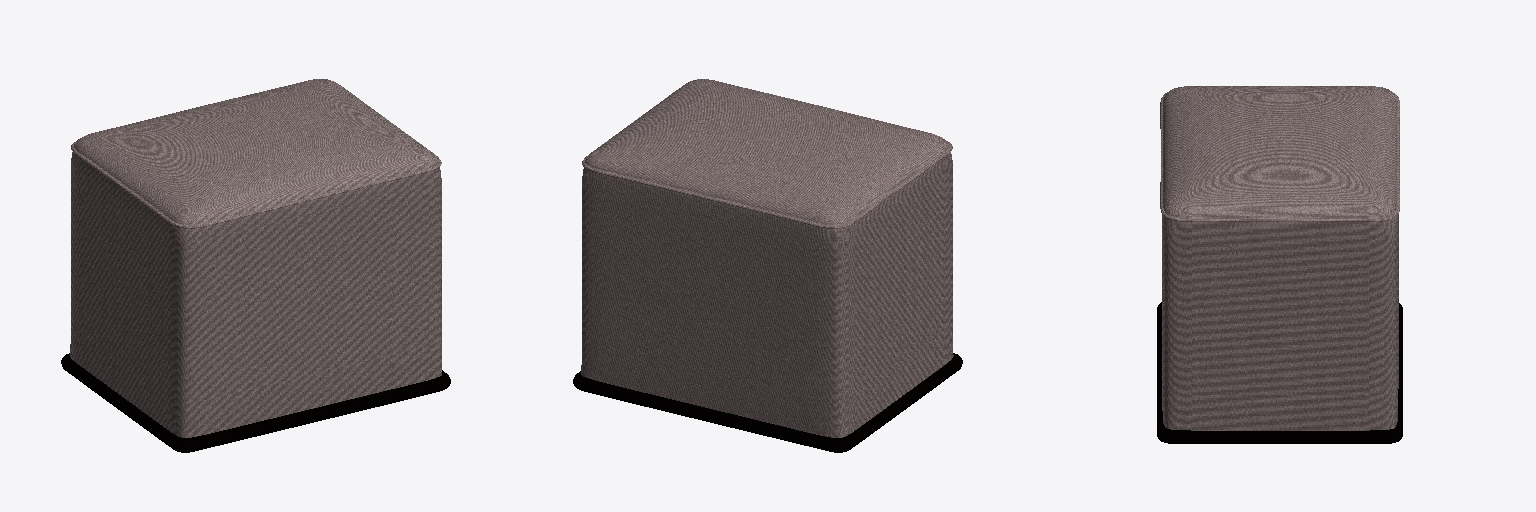
3 renders of one model, left to right at view 1: azimuth 30°, elevation 25°; view 2: azimuth 150°, elevation 25°; view 3: azimuth 270°, elevation 25°, orthographic.
Parts seen in each view (by area): view 1: Box001, Box003; view 2: Box001, Box003; view 3: Box001, Box003.
Part boxes in pixels (x1,y1,x2,y2): Box001: (70,79,441,437); Box003: (61,353,450,452); Box001: (581,79,953,437); Box003: (573,353,962,452); Box001: (1160,86,1399,430); Box003: (1157,302,1402,443).
Bounding box in the file's own units: 54 × 45.88 × 41.8.
Materials: 2 (1 with a texture image).